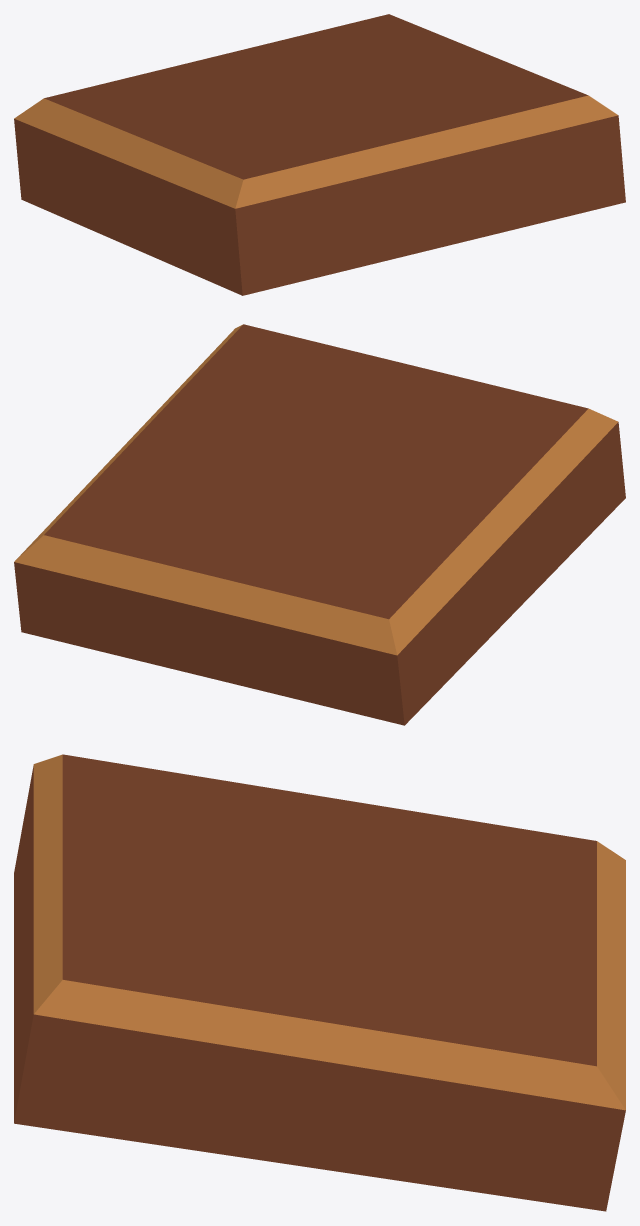
Rendered from yellow_button.glb.
The picture shows the model from 3 angles, top to bottom: view 1: azimuth 30°, elevation 25°; view 2: azimuth 150°, elevation 25°; view 3: azimuth 270°, elevation 25°; orthographic projection. The views are drawn at different scales.
Parts seen in each view (by area): view 1: Yellow_Button; view 2: Yellow_Button; view 3: Yellow_Button.
Boxes of the visible parts, left/top/right/bottom form: Yellow_Button: left=14, top=14, right=625, bottom=295; Yellow_Button: left=14, top=324, right=625, bottom=725; Yellow_Button: left=14, top=754, right=625, bottom=1211.
Size of what is drawn, in the model's own units: 0.2721 by 0.1112 by 0.2812.
1 material, 1 textured.
